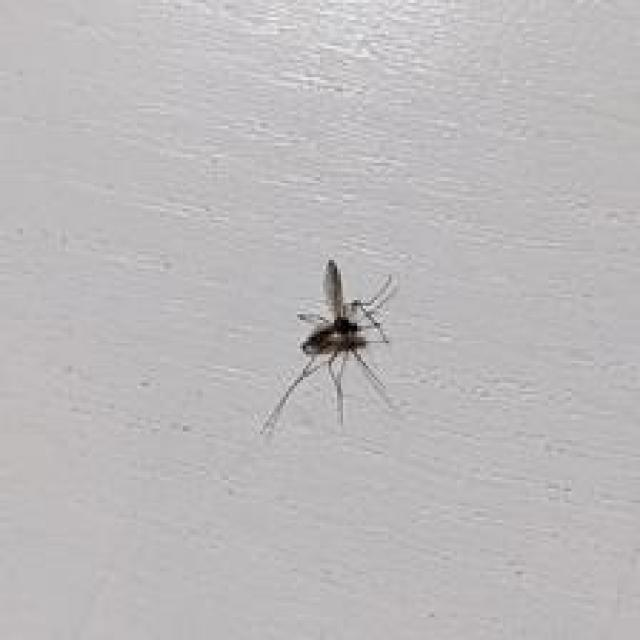Culex: (257, 257, 403, 437)
